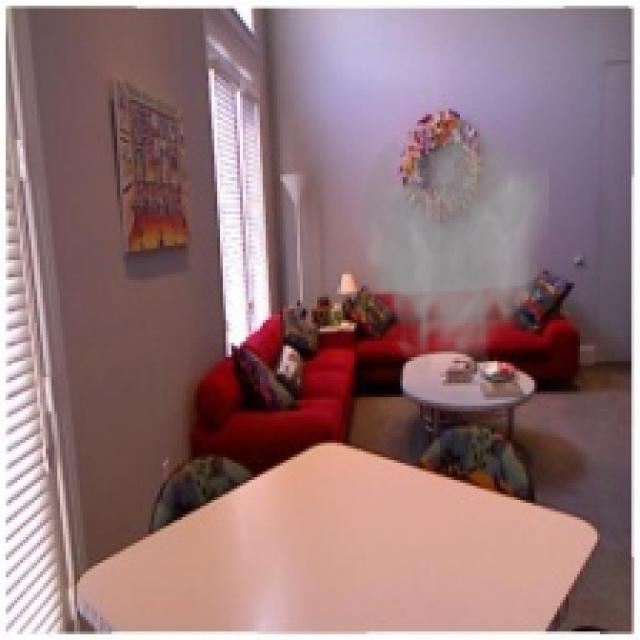smoke: (346, 114, 548, 380)
